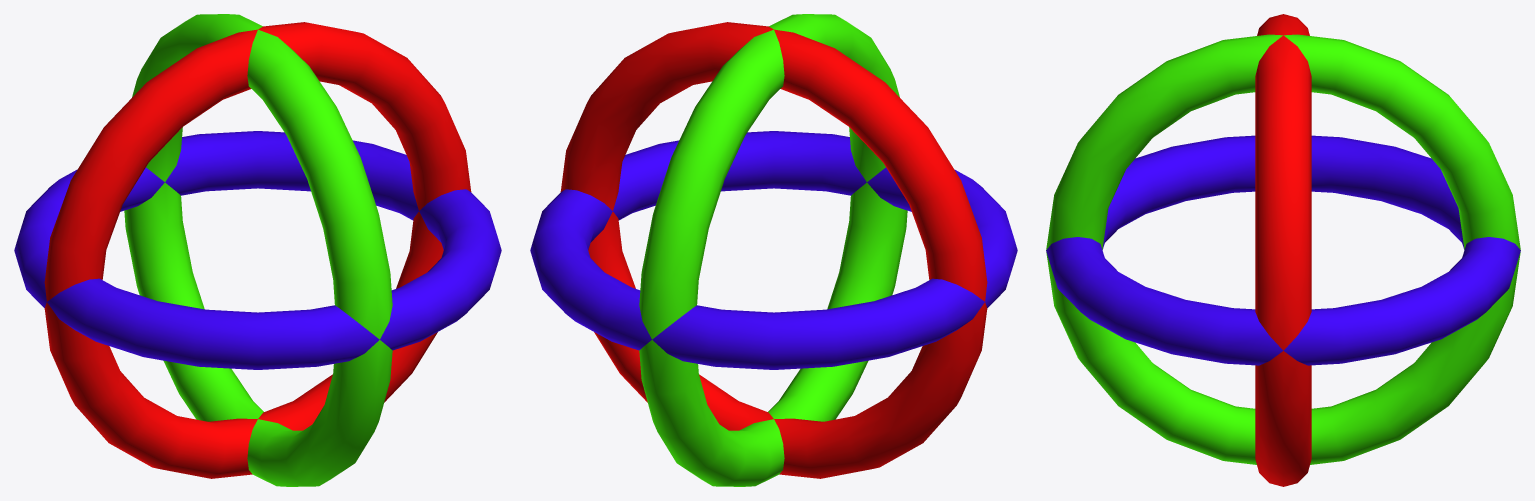
The model's file is Pivot.gltf.
3 views of the same model, side by side, from view 1: azimuth 30°, elevation 25°; view 2: azimuth 150°, elevation 25°; view 3: azimuth 270°, elevation 25° (orthographic). The views are drawn at different scales.
Visible parts, largest first — view 1: Scene, Scene_node, Scene_node_0; view 2: Scene, Scene_node, Scene_node_0; view 3: Scene_node, Scene_node_0, Scene.
Boxes of the visible parts, x1=… form: Scene: x1=44, y1=22, x2=471, y2=478; Scene_node: x1=124, y1=14, x2=392, y2=486; Scene_node_0: x1=14, y1=131, x2=501, y2=369; Scene: x1=560, y1=22, x2=987, y2=478; Scene_node: x1=639, y1=14, x2=907, y2=486; Scene_node_0: x1=530, y1=131, x2=1017, y2=369; Scene_node: x1=1046, y1=34, x2=1520, y2=464; Scene_node_0: x1=1046, y1=135, x2=1520, y2=365; Scene: x1=1255, y1=14, x2=1311, y2=486.
Size of the model in its own units: 0.9415 by 0.9415 by 0.9415.
